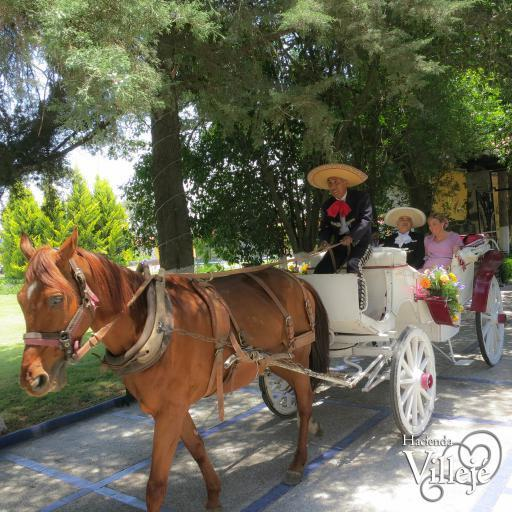horse: (15, 230, 332, 512)
